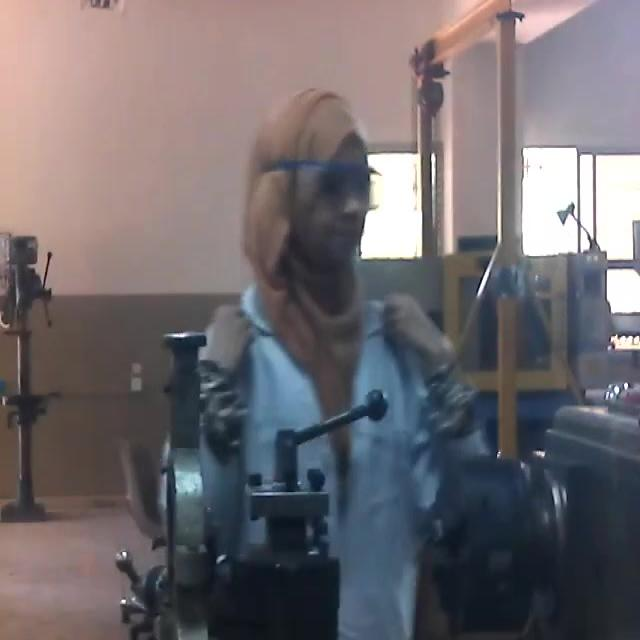googles: (325, 155, 385, 215)
labcoat: (198, 273, 492, 640)
